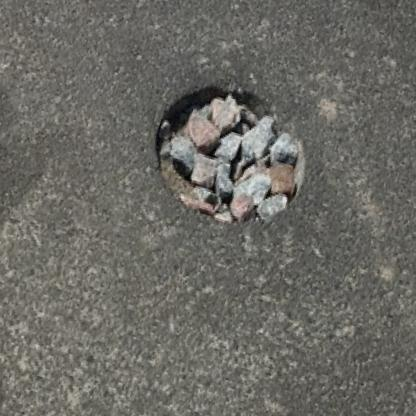pothole: (128, 63, 330, 246)
